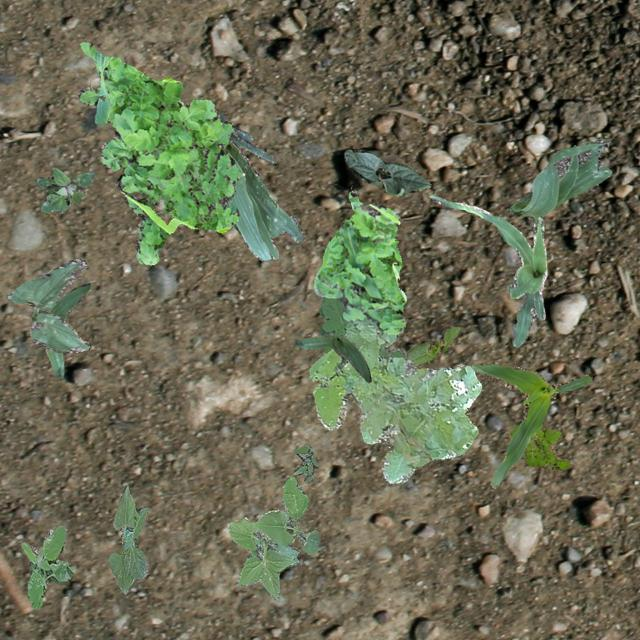crop: (428, 194, 546, 346), (470, 362, 590, 487), (216, 113, 302, 260), (508, 137, 610, 220), (7, 258, 88, 352), (44, 282, 90, 378), (108, 484, 148, 592), (344, 148, 431, 196), (292, 332, 370, 382), (406, 326, 458, 364)
weed: (76, 40, 244, 264), (308, 314, 480, 483), (312, 188, 406, 334), (226, 476, 318, 598), (318, 296, 407, 358), (19, 524, 72, 608), (34, 168, 94, 212), (508, 424, 568, 468), (292, 443, 318, 482)
